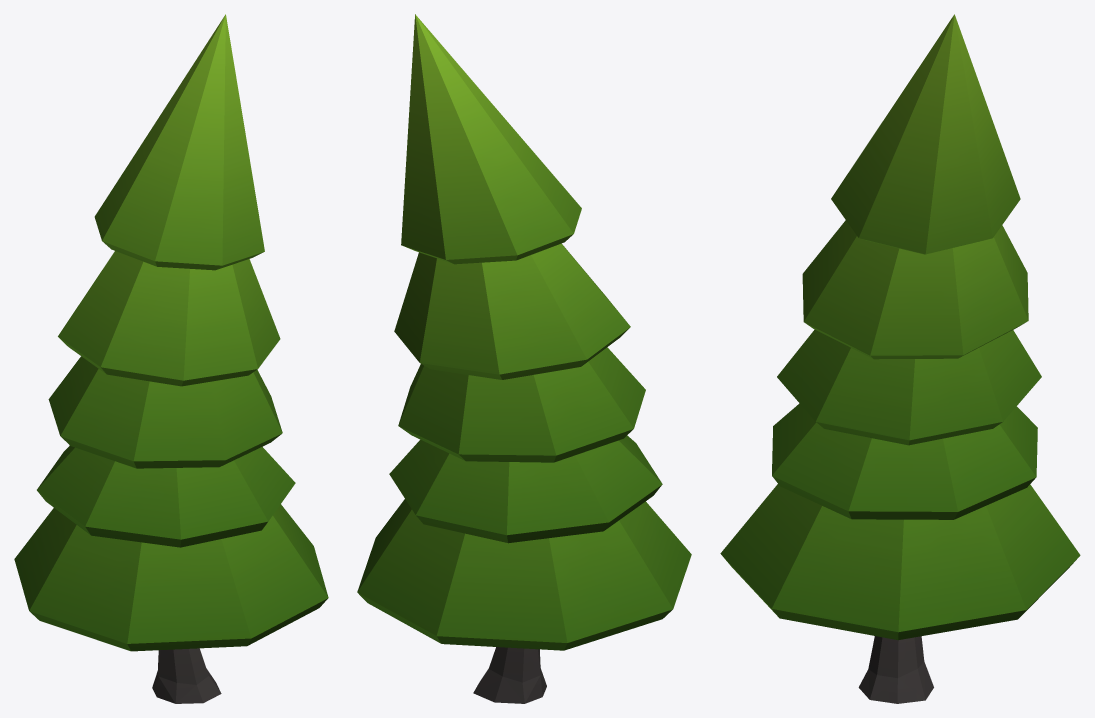
The model's file is PineTree_C.fbx.
The picture shows the model from 3 angles, left to right: view 1: azimuth 30°, elevation 25°; view 2: azimuth 150°, elevation 25°; view 3: azimuth 270°, elevation 25°; orthographic projection. The views are drawn at different scales.
Parts seen in each view (by area): view 1: PineTree_C; view 2: PineTree_C; view 3: PineTree_C.
Part boxes in pixels (x1=…): PineTree_C: x1=14, y1=14, x2=328, y2=703; PineTree_C: x1=357, y1=14, x2=691, y2=703; PineTree_C: x1=720, y1=14, x2=1080, y2=703.
Size of the model in its own units: 291 by 629 by 290.
